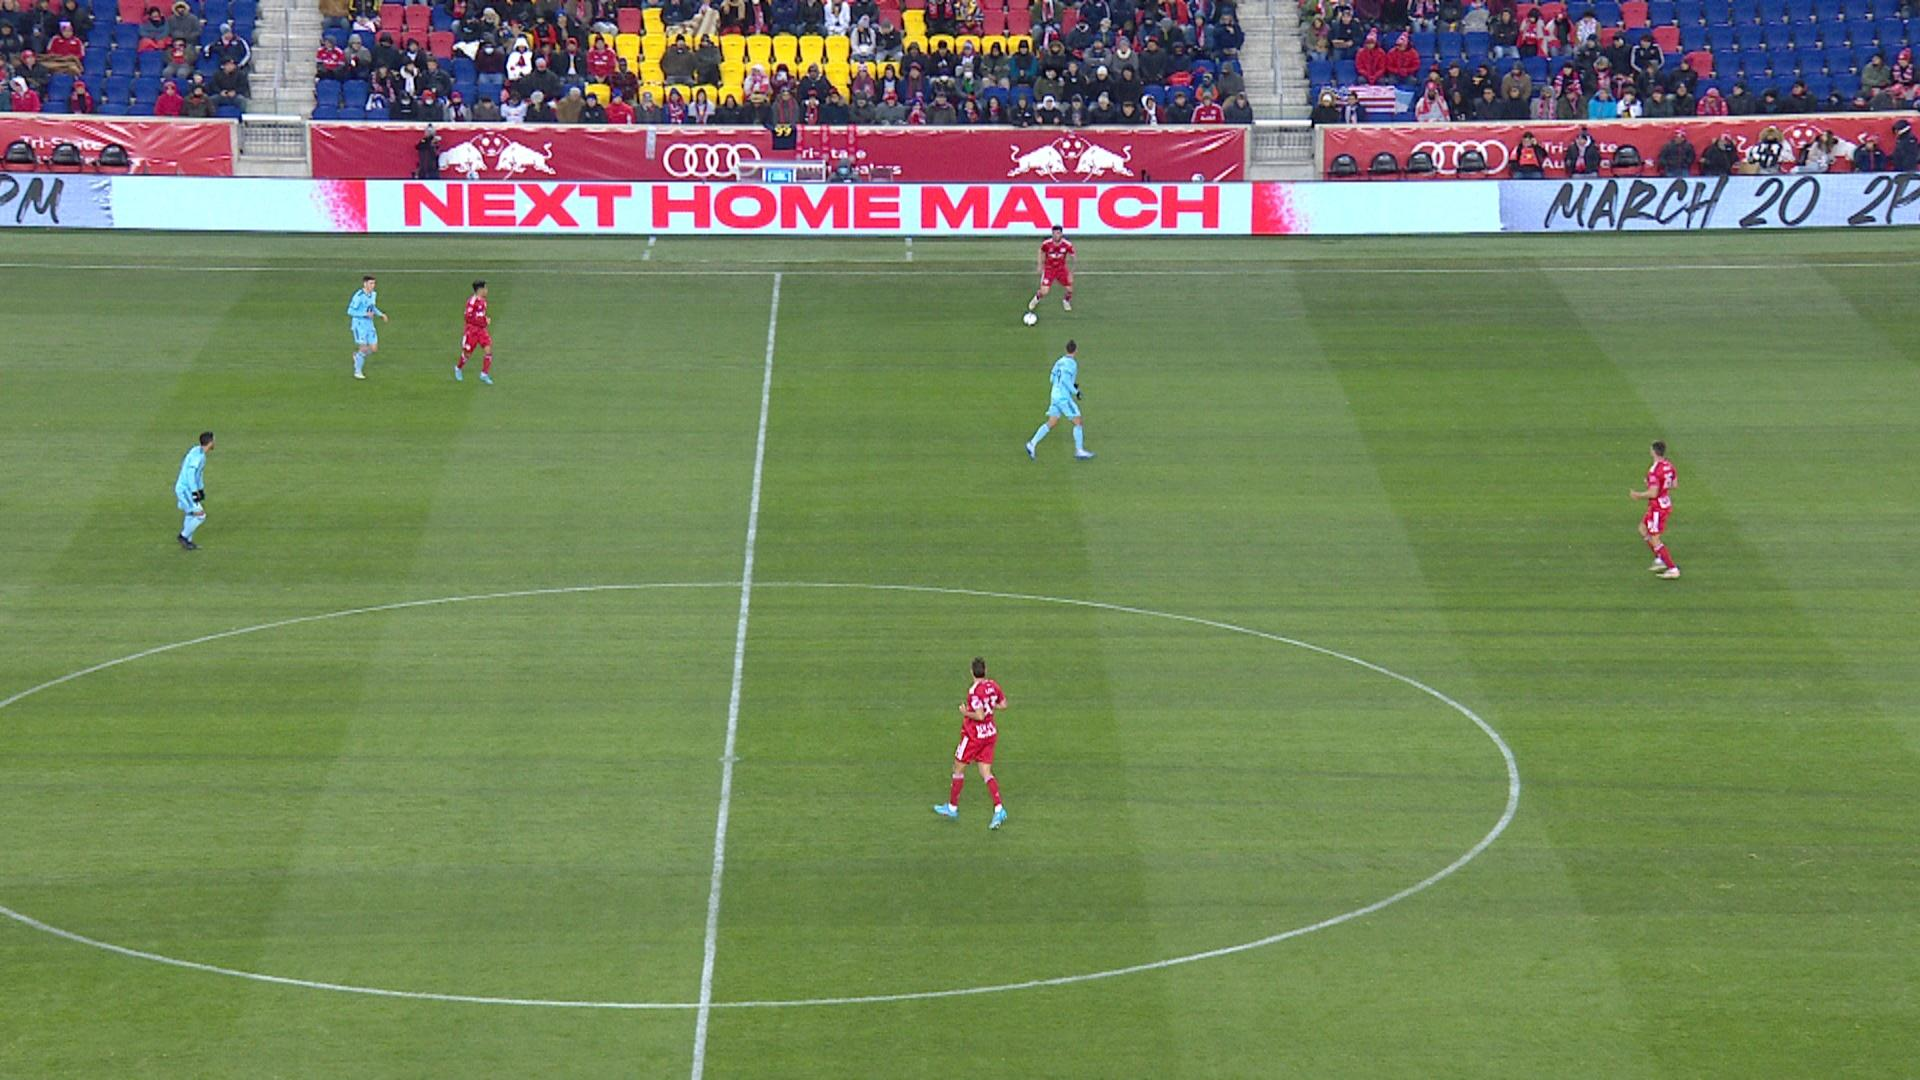football: (1022, 312, 1038, 326)
